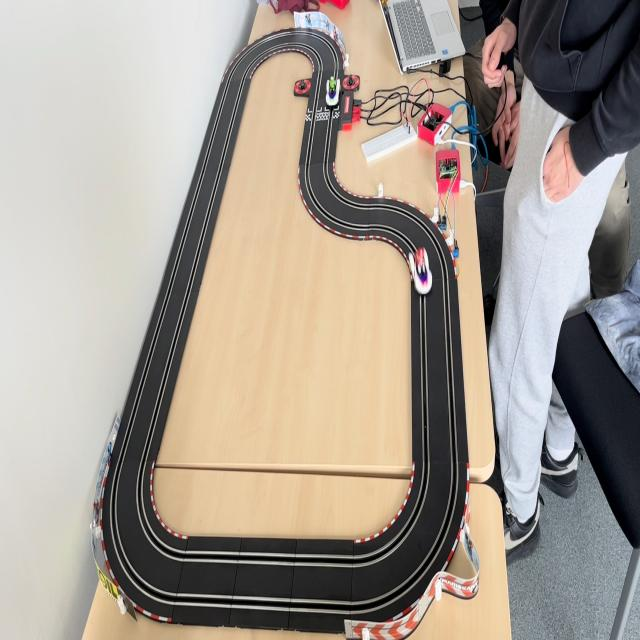mario: (409, 247, 433, 297)
yoshi: (324, 75, 340, 107)
